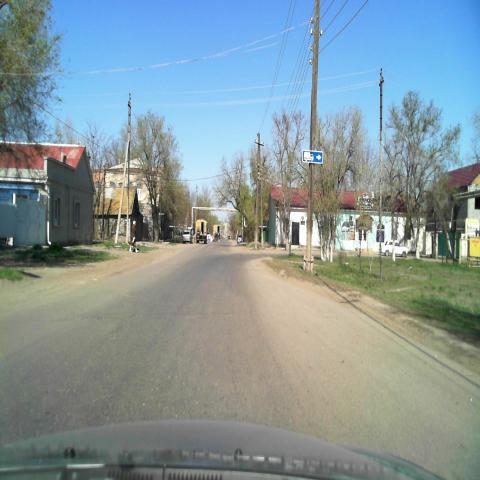6_15_2: (302, 150, 324, 166)
